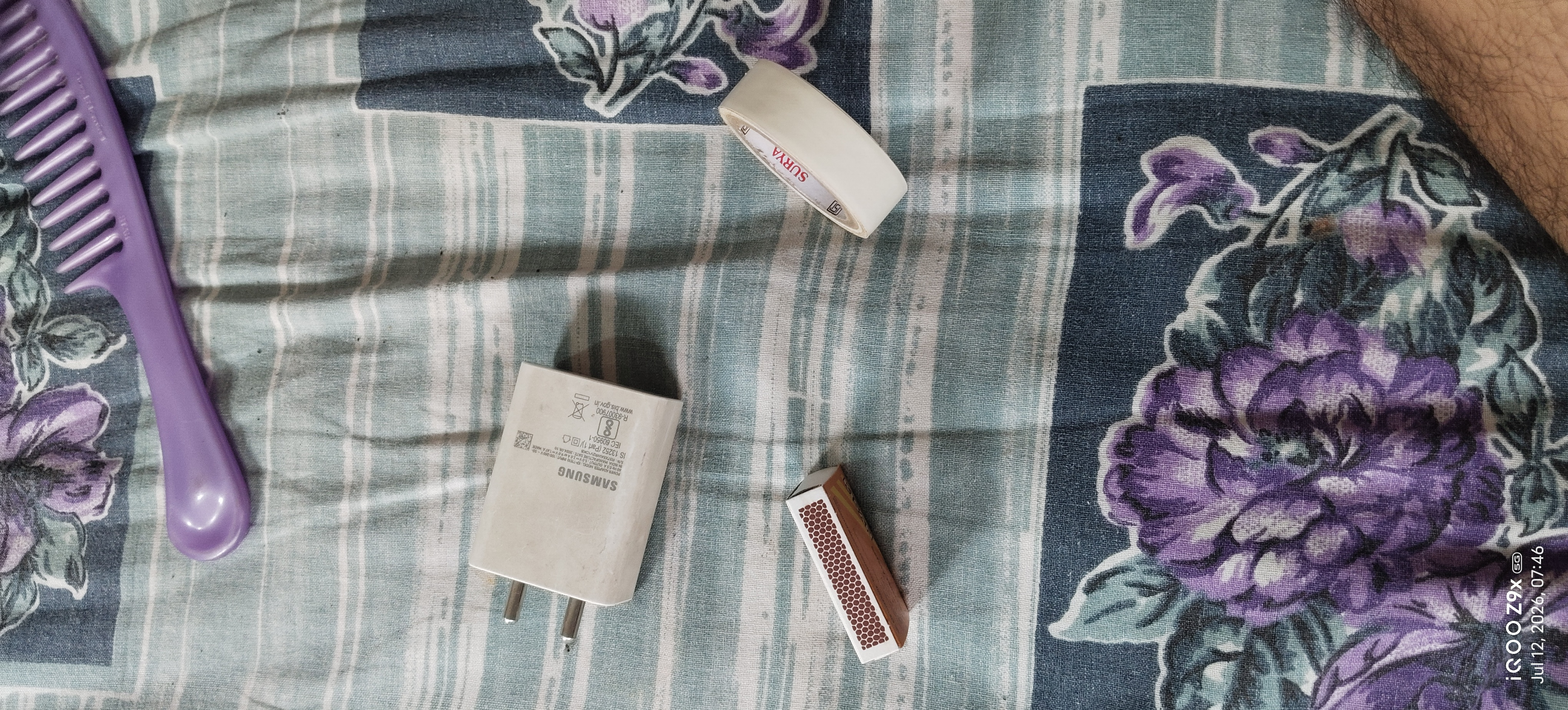charger: (450, 329, 699, 639)
matchbox: (760, 459, 950, 675)
tape_roll: (682, 47, 938, 277)
